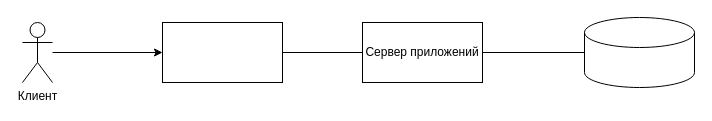
Some shapes in this 712 by 121 pixel diagram are drawn without their labels. The shapes that lost their labels are listed below. From the top down, each one's box as (x1, y1, x2, y2) in pixels, then its label:
(162, 22, 282, 82): Веб-сервер
(584, 16, 694, 88): База данных
